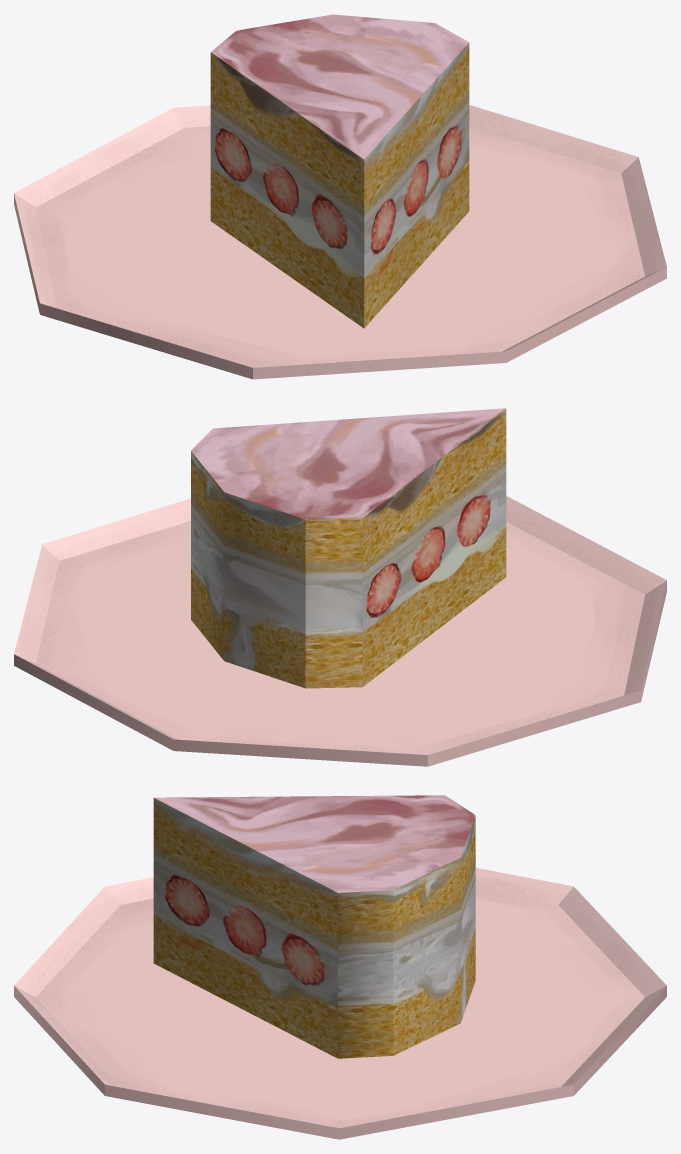
The model's file is SakuraPie.fbx.
The picture shows the model from 3 angles, top to bottom: view 1: azimuth 30°, elevation 25°; view 2: azimuth 150°, elevation 25°; view 3: azimuth 270°, elevation 25°; orthographic projection.
Visible parts, largest first — view 1: PlatoRedondo1, Tarta; view 2: PlatoRedondo1, Tarta; view 3: PlatoRedondo1, Tarta.
Boxes of the visible parts, x1,y1,x2,y2 form: PlatoRedondo1: (14,105,666,379); Tarta: (210,14,469,328); PlatoRedondo1: (14,496,666,766); Tarta: (191,408,506,688); PlatoRedondo1: (14,868,666,1139); Tarta: (153,795,475,1058).
Bounding box in the file's own units: 2.48 × 0.7186 × 2.39.
